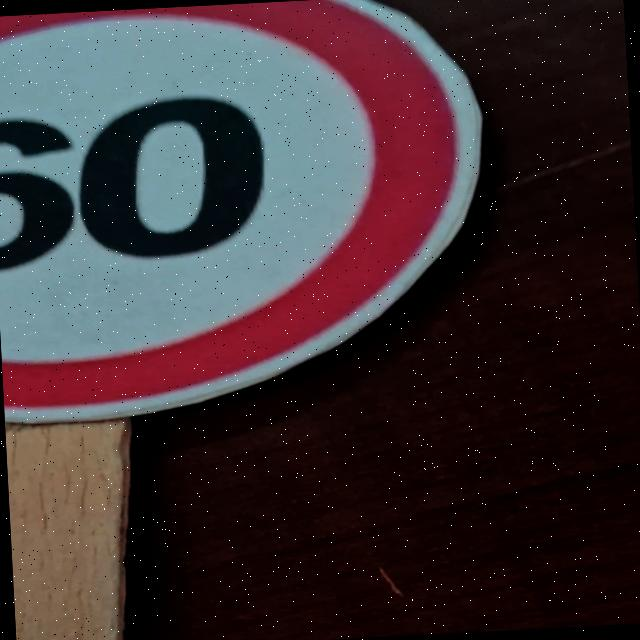Speed60: (0, 0, 504, 430)
